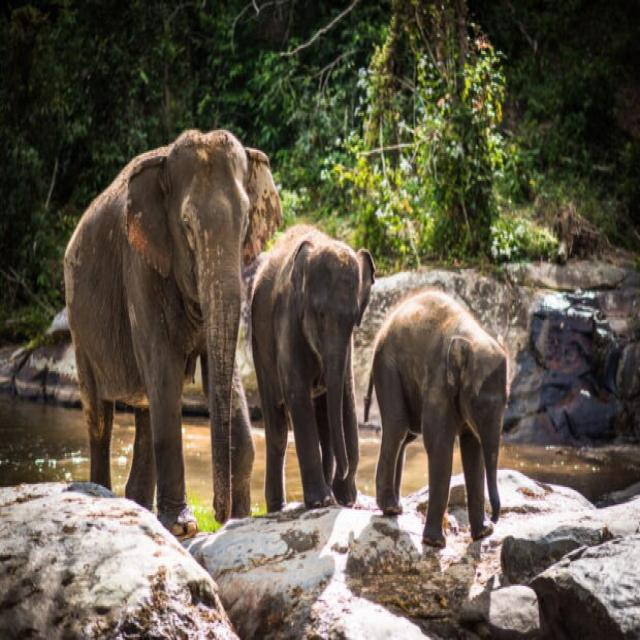Elephant: (51, 137, 281, 516), (367, 284, 514, 558), (248, 231, 366, 508)
